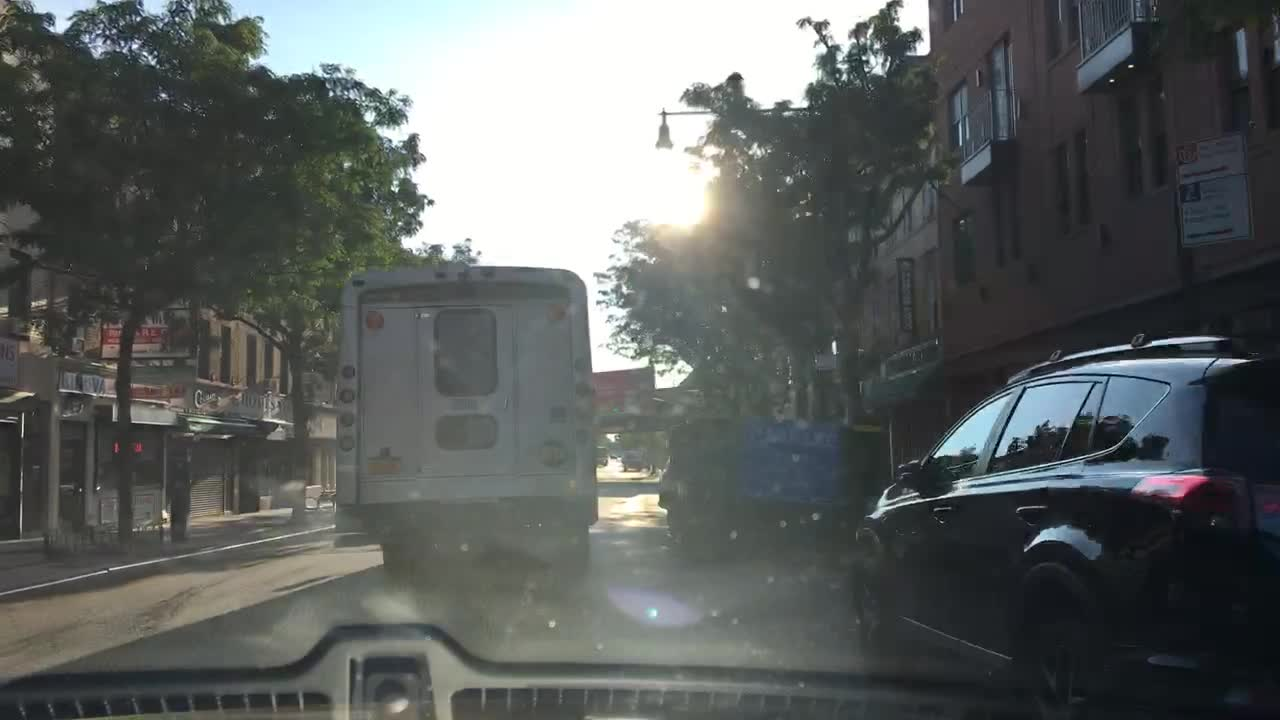bus: (337, 264, 600, 587)
car: (846, 329, 1279, 718), (618, 450, 645, 471), (597, 443, 609, 468)
traffic light: (128, 437, 144, 456), (108, 439, 119, 454)
traffic sign: (1177, 176, 1254, 248), (1172, 134, 1247, 181), (593, 365, 655, 413)
truck: (655, 416, 847, 548)
